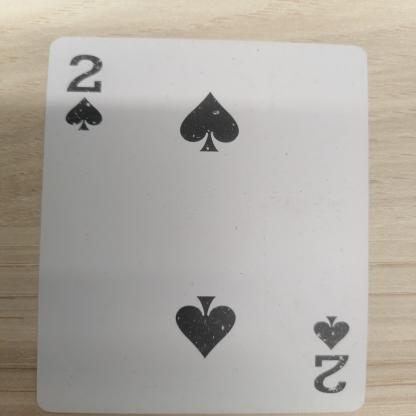2S: (280, 300, 364, 400), (51, 43, 130, 136)
